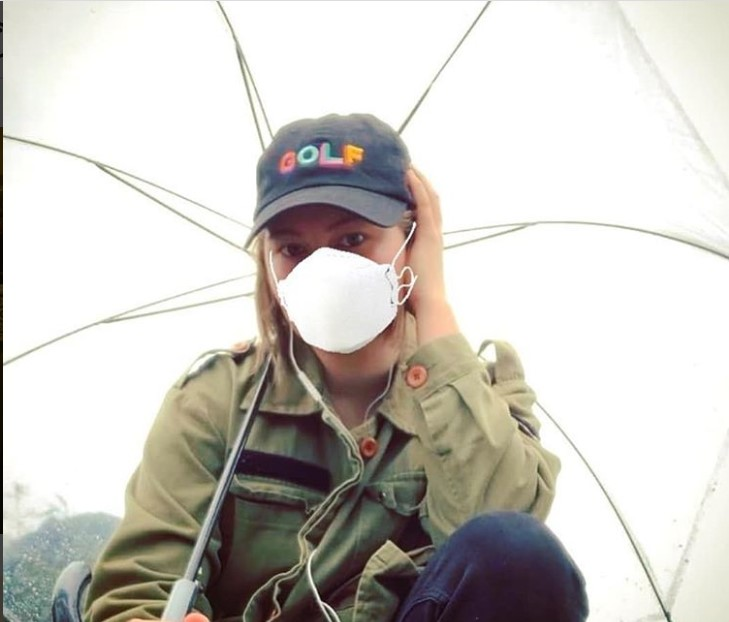face_with_mask: (247, 116, 415, 348)
